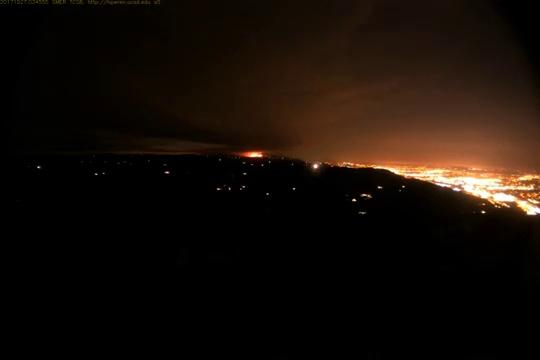fire: (453, 177, 515, 199)
